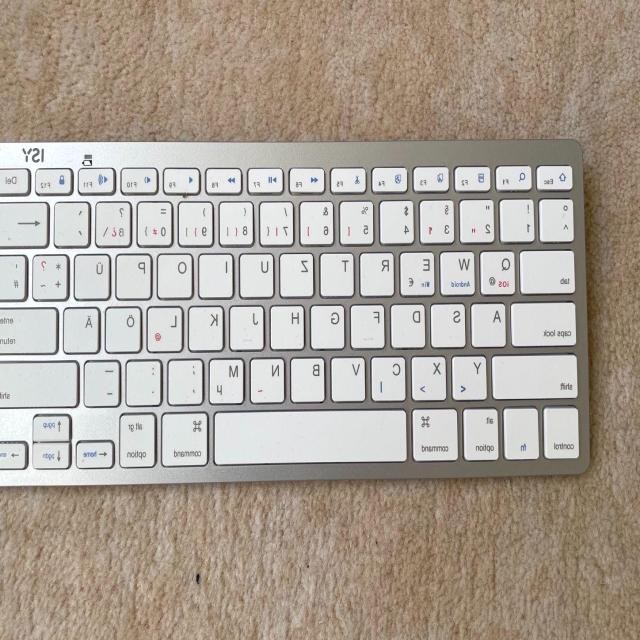0: (138, 197, 176, 245)
1: (501, 195, 537, 241)
2: (461, 196, 497, 242)
3: (421, 196, 458, 242)
4: (381, 196, 417, 242)
5: (341, 197, 377, 243)
6: (301, 197, 337, 244)
7: (260, 198, 296, 245)
8: (220, 198, 257, 245)
9: (180, 197, 217, 245)
a: (473, 299, 509, 346)
accent: (56, 197, 93, 244)
ae: (65, 303, 103, 351)
alt-left: (464, 403, 502, 460)
altgr-right: (119, 409, 159, 467)
b: (292, 354, 329, 401)
c: (372, 353, 410, 401)
caret: (541, 194, 577, 240)
comma: (169, 355, 207, 403)
d: (392, 299, 428, 347)
del: (0, 197, 52, 245)
e: (401, 248, 439, 296)
enter: (0, 303, 59, 353)
f: (352, 301, 388, 348)
g: (312, 302, 348, 348)
h: (272, 302, 308, 348)
hash: (1, 251, 29, 299)
i: (200, 250, 236, 297)
j: (231, 302, 267, 349)
k: (190, 302, 227, 350)
keyboard: (1, 131, 597, 493)
l: (148, 303, 186, 351)
m: (210, 355, 248, 403)
minus: (85, 357, 125, 406)
n: (251, 354, 288, 402)
o: (159, 249, 196, 297)
oe: (107, 303, 145, 352)
p: (117, 250, 155, 298)
plus: (33, 251, 71, 299)
point: (127, 356, 165, 405)
q: (481, 247, 519, 294)
r: (361, 248, 397, 295)
s: (432, 300, 469, 347)
shift-left: (492, 350, 580, 398)
shift-lock: (512, 299, 580, 345)
shift-right: (0, 356, 81, 406)
space: (214, 405, 409, 463)
ss: (97, 197, 135, 245)
strg-left: (544, 403, 584, 459)
t: (321, 249, 357, 295)
tab: (521, 245, 578, 292)
u: (241, 249, 277, 297)
ue: (75, 249, 114, 298)
v: (332, 353, 368, 400)
w: (442, 246, 478, 294)
x: (413, 353, 449, 400)
y: (452, 352, 490, 399)
z: (281, 249, 317, 296)
